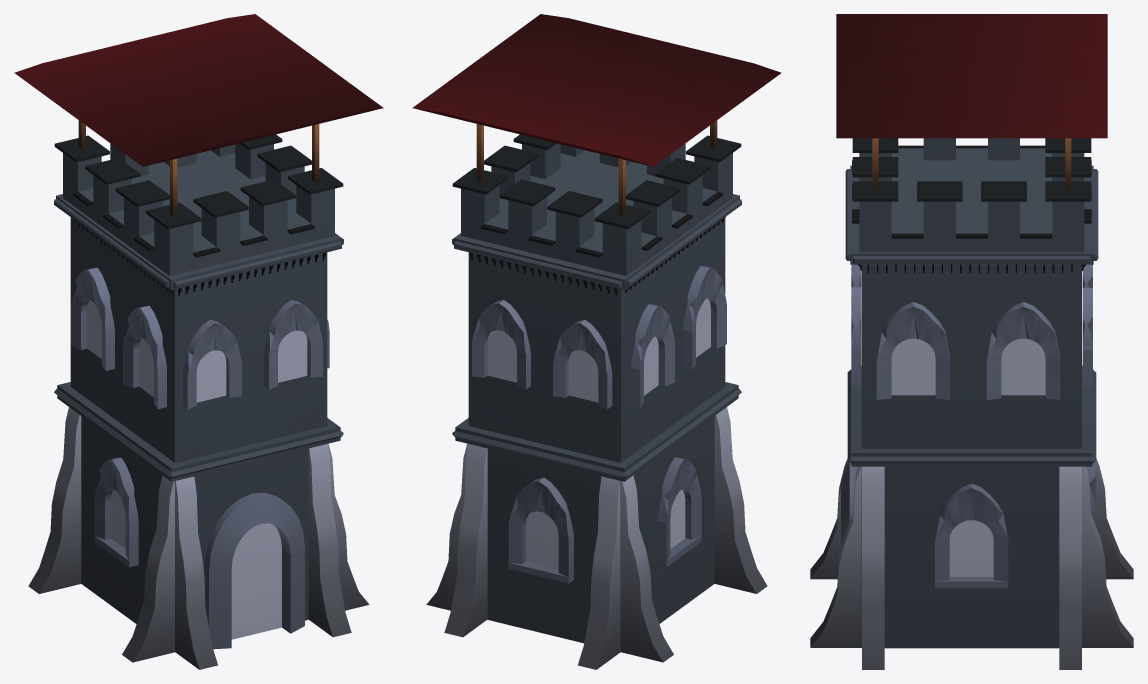
Rendered from watch tower .fbx.
3 renders of one model, left to right at view 1: azimuth 30°, elevation 25°; view 2: azimuth 150°, elevation 25°; view 3: azimuth 270°, elevation 25°, orthographic. The views are drawn at different scales.
Visible parts, largest first — view 1: Cube.035; view 2: Cube.035; view 3: Cube.035.
Boxes of the visible parts, x1,y1,x2,y2 form: Cube.035: [14, 14, 383, 669]; Cube.035: [412, 14, 781, 669]; Cube.035: [810, 14, 1133, 669].
Size of the model in its own units: 640 by 1288 by 704.
Materials: 1 (1 with a texture image).
